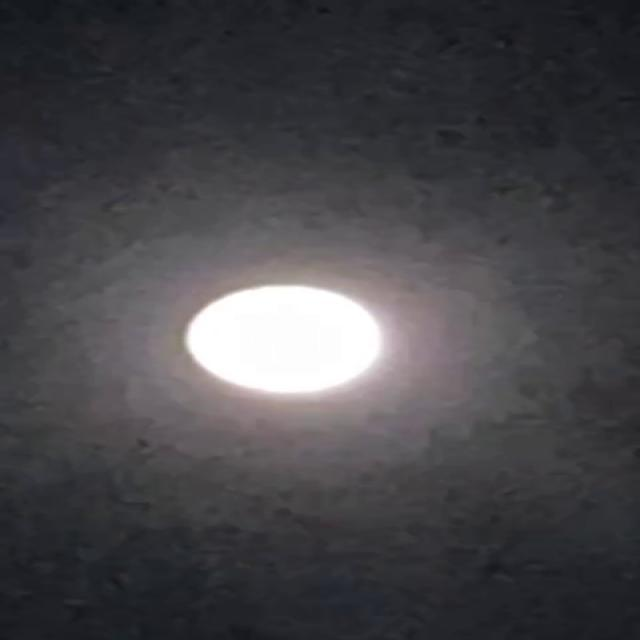moon: (170, 273, 397, 394)
